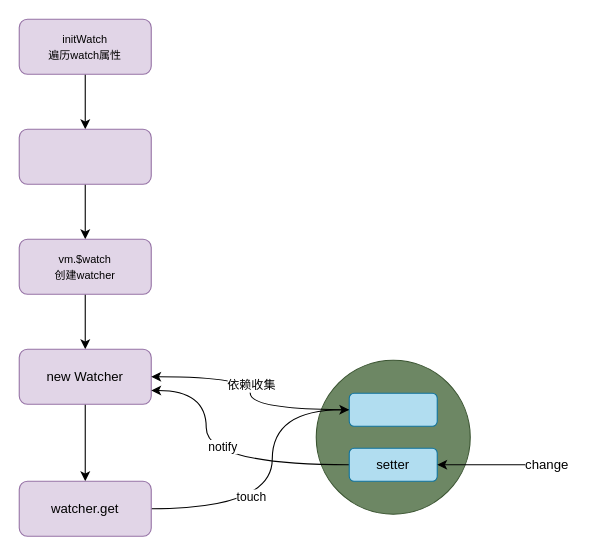
The diagram is 589 pixels wide and 556 high, and some of its shapes have lost their labels. The centre of each missing label's shape, as x and y in pixels:
"createWatcher 统一化handler" belongs at (84,156).
"getter" belongs at (392,409).
